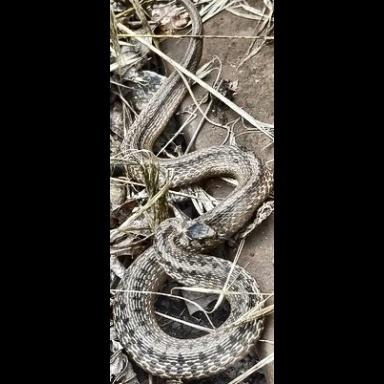snake: (111, 73, 269, 382)
